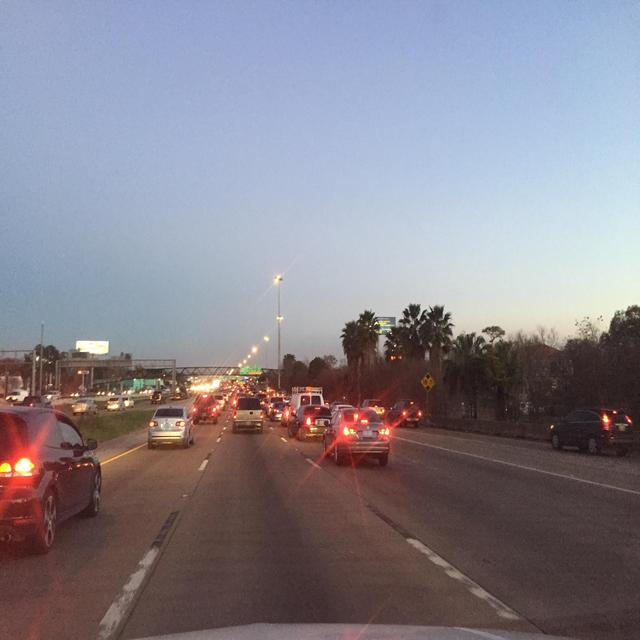Barrier: (420, 415, 551, 442), (49, 389, 178, 404), (632, 430, 639, 452)
Billboard: (76, 340, 109, 355), (378, 316, 396, 333)
Car: (170, 386, 422, 466), (0, 387, 102, 558), (71, 390, 228, 449), (548, 408, 634, 456)
Vegetation: (267, 301, 639, 429), (257, 377, 265, 386)
